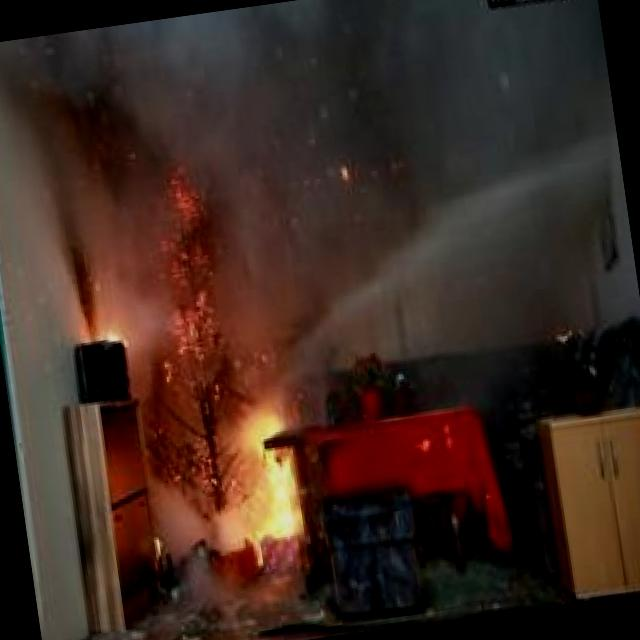fire: (128, 362, 342, 590)
